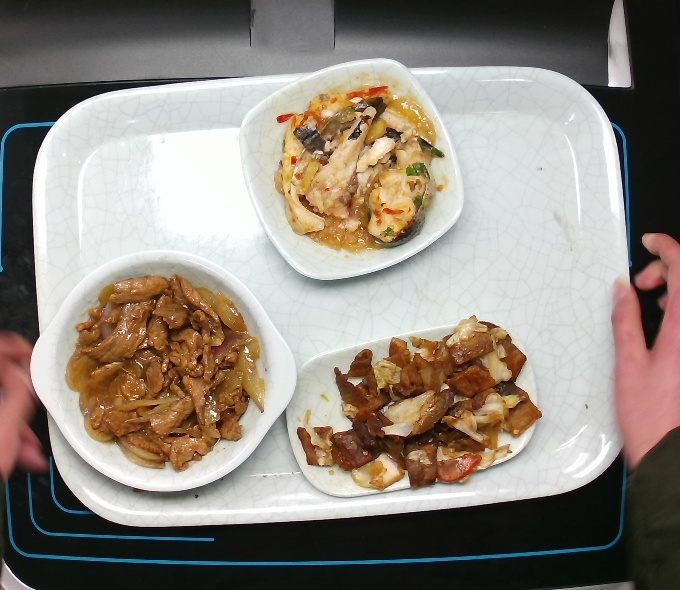wcq-DuoJiaoYuKuai: (267, 69, 454, 259)
wcq-PaoCaiRouPian: (290, 318, 554, 492)
wcq-YangCongRouPian: (62, 269, 274, 474)
